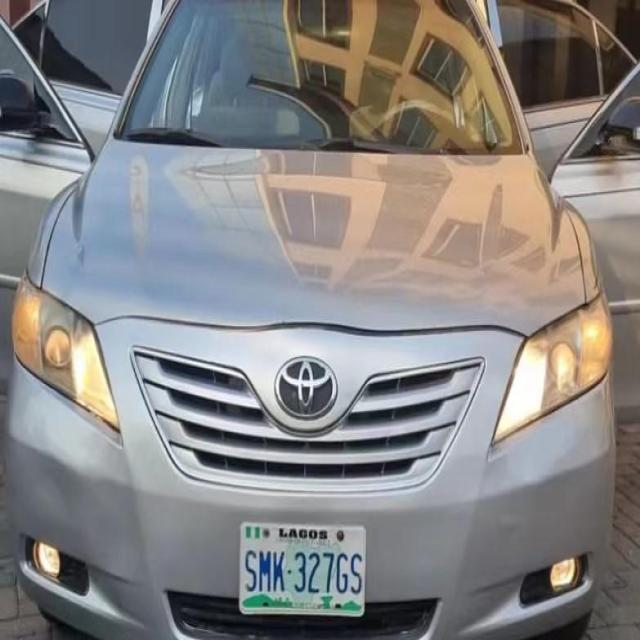Nigerian License Plate - vdataset benjamin-daria: (240, 518, 370, 623)
